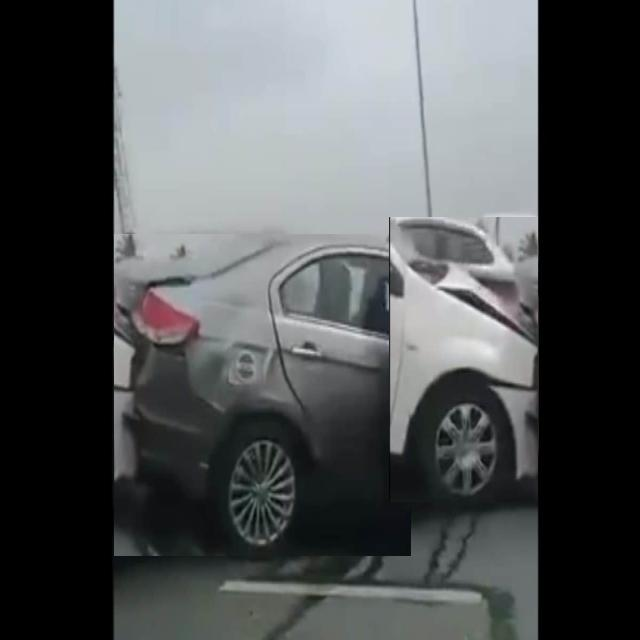accident: (114, 235, 411, 556), (390, 217, 538, 502)
